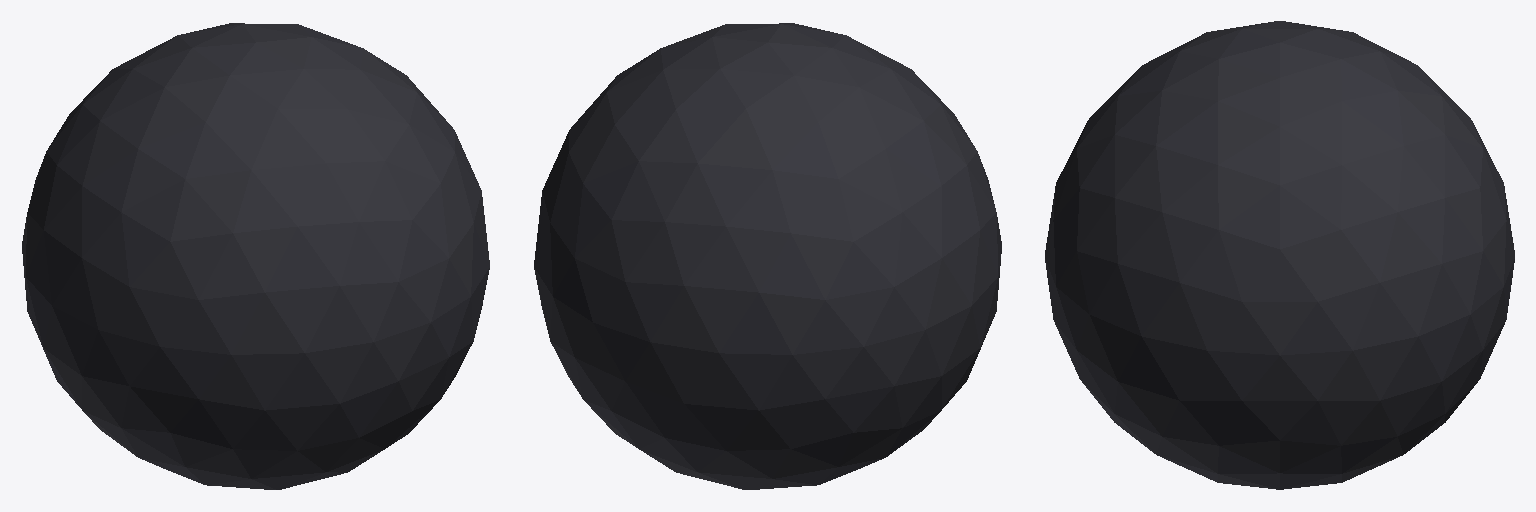
Rendered from golf.obj.
The picture shows the model from 3 angles: view 1: azimuth 30°, elevation 25°; view 2: azimuth 150°, elevation 25°; view 3: azimuth 270°, elevation 25°; orthographic projection.
Visible parts, largest first — view 1: ball; view 2: ball; view 3: ball.
Boxes of the visible parts, <box> form: ball: <box>22,23,489,489</box>; ball: <box>534,23,1001,489</box>; ball: <box>1045,21,1514,489</box>.
Bounding box in the file's own units: 1 × 1 × 1.